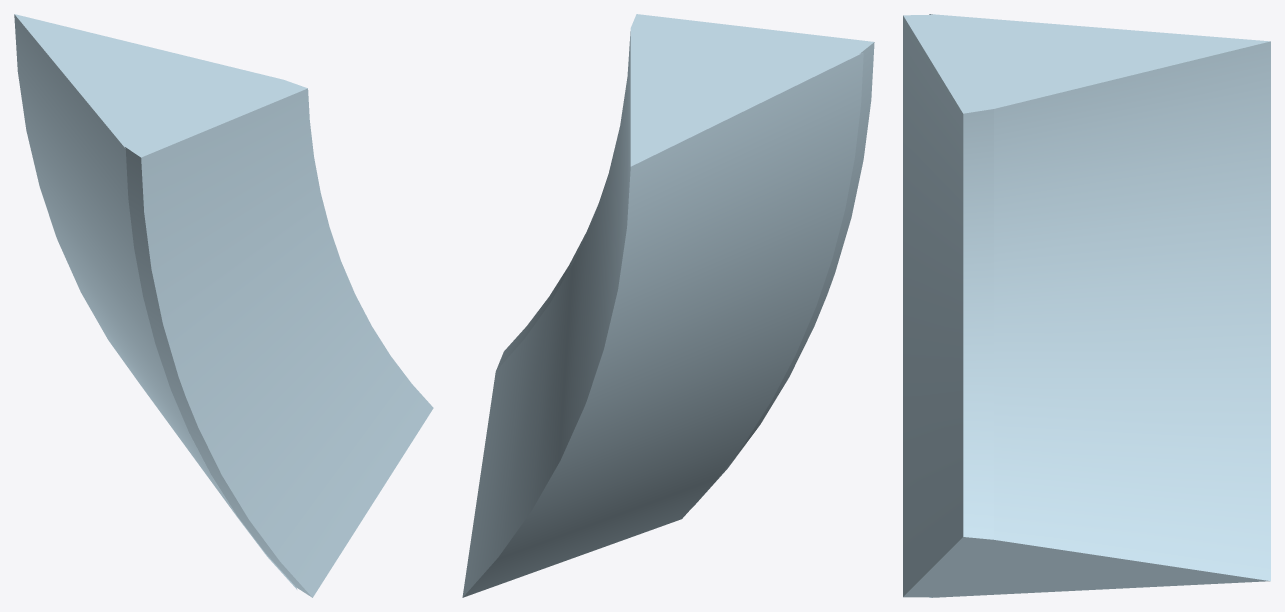
File: Sub_2_Cell_2_3.gltf
The picture shows the model from 3 angles, left to right: view 1: azimuth 30°, elevation 25°; view 2: azimuth 150°, elevation 25°; view 3: azimuth 270°, elevation 25°; orthographic projection. The views are drawn at different scales.
Visible parts, largest first — view 1: Sub_2_Cell_2_3; view 2: Sub_2_Cell_2_3; view 3: Sub_2_Cell_2_3.
Part boxes in pixels (x1,y1,x2,y2): Sub_2_Cell_2_3: (14, 14, 433, 597); Sub_2_Cell_2_3: (462, 14, 874, 597); Sub_2_Cell_2_3: (903, 14, 1270, 597).
Size of the model in its own units: 0.0622 by 0.0887 by 0.0594.
